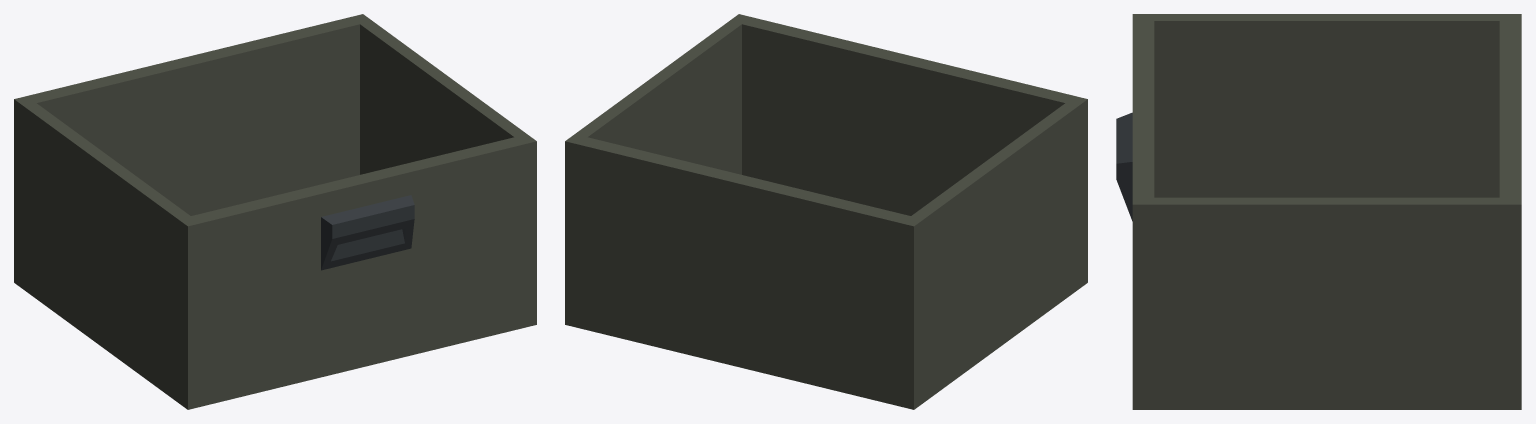
File: SM_Prop_Lockers_Drawer_04.glb
3 views of the same model, side by side, from view 1: azimuth 30°, elevation 25°; view 2: azimuth 150°, elevation 25°; view 3: azimuth 270°, elevation 25° (orthographic). The views are drawn at different scales.
Parts seen in each view (by area): view 1: SM_Prop_Lockers_Drawer_04; view 2: SM_Prop_Lockers_Drawer_04; view 3: SM_Prop_Lockers_Drawer_04.
Boxes of the visible parts, x1,y1,x2,y2 form: SM_Prop_Lockers_Drawer_04: (14,14,536,409); SM_Prop_Lockers_Drawer_04: (565,14,1087,409); SM_Prop_Lockers_Drawer_04: (1116,14,1521,409).
Size of the model in its own units: 0.6028 by 0.3029 by 0.5417.
Materials: 1 (1 with a texture image).
